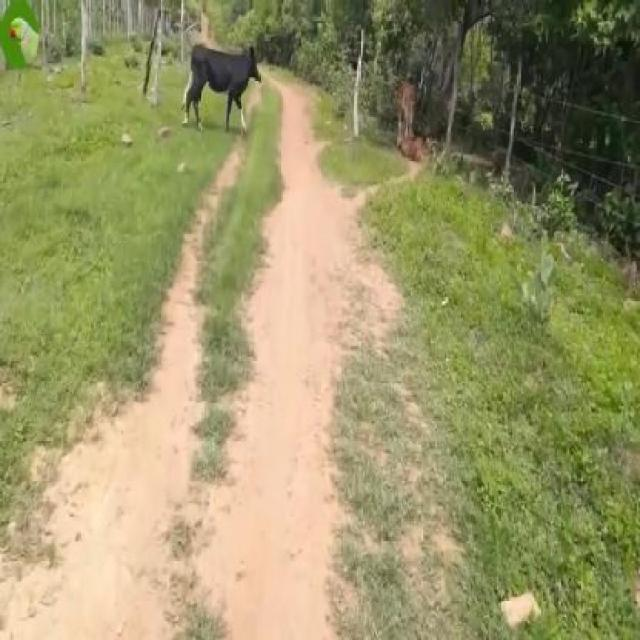Cow: (183, 45, 263, 137)
